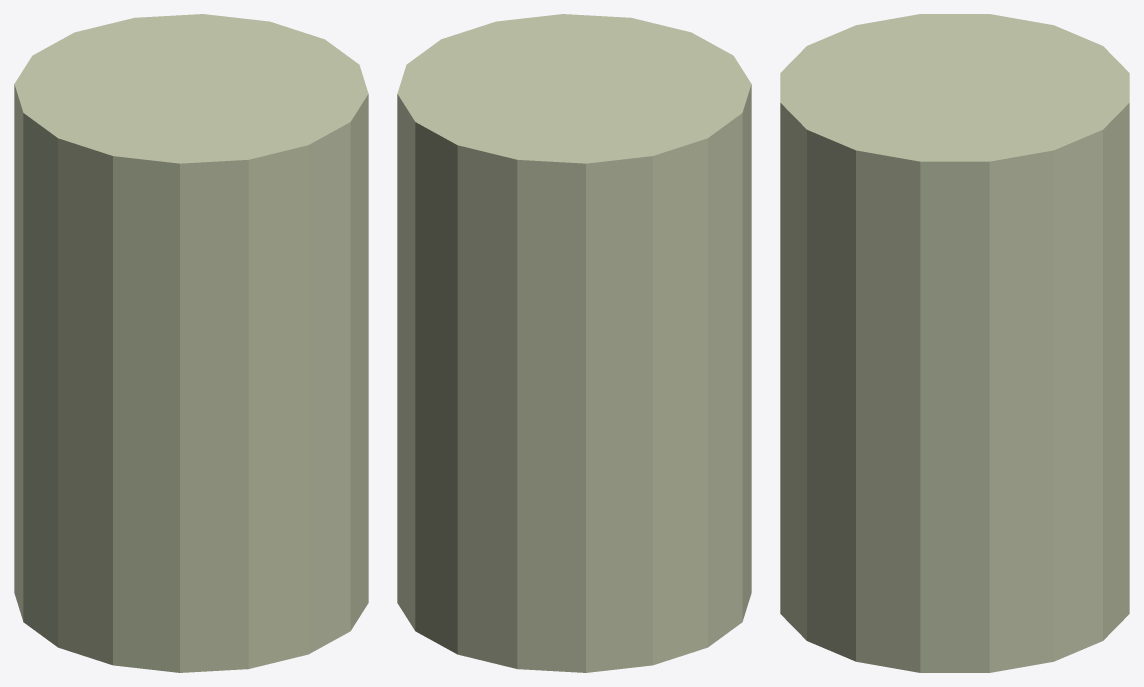
File: LLV_G_LFO_1_Collider.obj
3 renders of one model, left to right at view 1: azimuth 30°, elevation 25°; view 2: azimuth 150°, elevation 25°; view 3: azimuth 270°, elevation 25°, orthographic.
Parts seen in each view (by area): view 1: LLV_G_LFO_1_Collider; view 2: LLV_G_LFO_1_Collider; view 3: LLV_G_LFO_1_Collider.
Boxes of the visible parts, x1,y1,x2,y2 form: LLV_G_LFO_1_Collider: [14, 14, 368, 672]; LLV_G_LFO_1_Collider: [397, 14, 751, 672]; LLV_G_LFO_1_Collider: [780, 14, 1129, 672].
Size of the model in its own units: 1.88 by 3.03 by 1.88.
